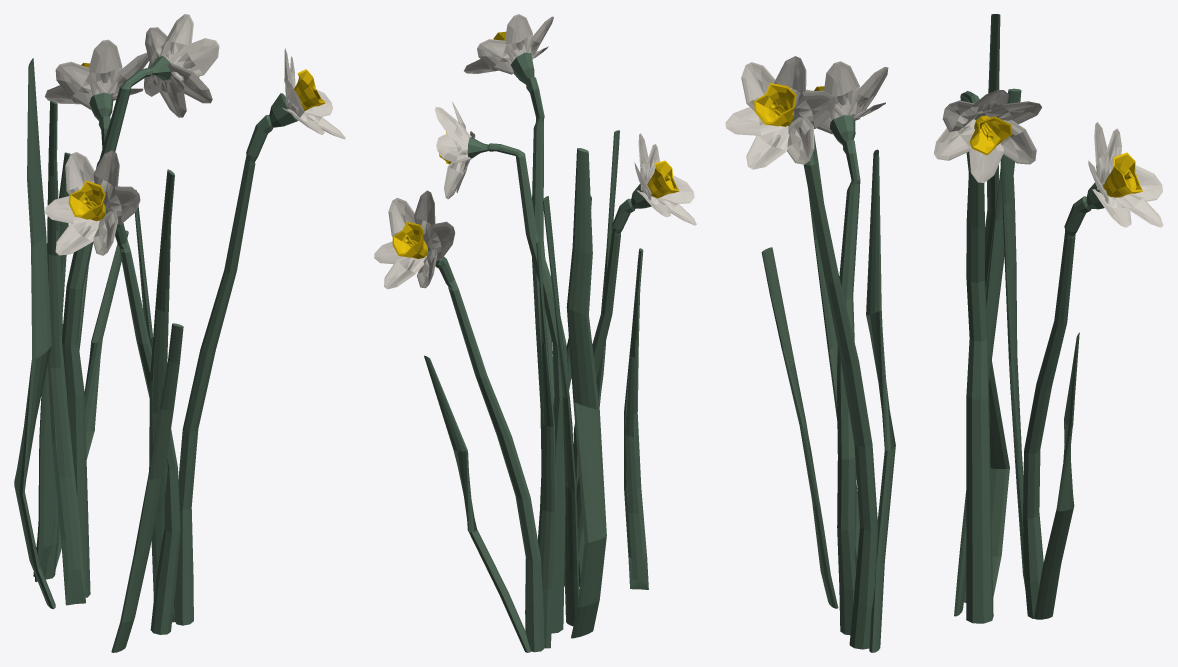
The model's file is Daffodil.fbx.
3 views of the same model, side by side, from view 1: azimuth 30°, elevation 25°; view 2: azimuth 150°, elevation 25°; view 3: azimuth 270°, elevation 25° (orthographic). The views are drawn at different scales.
Visible parts, largest first — view 1: Daffodil_Leaf, Daffodil_Stem, Daffodil_Flower, Daffodil_Corona; view 2: Daffodil_Leaf, Daffodil_Stem, Daffodil_Flower, Daffodil_Corona; view 3: Daffodil_Stem, Daffodil_Leaf, Daffodil_Flower, Daffodil_Corona.
Part boxes in pixels (left/top/right/bottom): Daffodil_Leaf: left=14, top=58, right=183, bottom=652; Daffodil_Stem: left=33, top=56, right=298, bottom=634; Daffodil_Flower: left=45, top=14, right=345, bottom=255; Daffodil_Corona: left=68, top=62, right=325, bottom=221; Daffodil_Leaf: left=424, top=130, right=648, bottom=652; Daffodil_Stem: left=428, top=52, right=651, bottom=652; Daffodil_Flower: left=374, top=14, right=696, bottom=289; Daffodil_Corona: left=392, top=31, right=679, bottom=258; Daffodil_Stem: left=788, top=91, right=1104, bottom=649; Daffodil_Leaf: left=761, top=14, right=1079, bottom=652; Daffodil_Flower: left=725, top=56, right=1163, bottom=227; Daffodil_Corona: left=754, top=83, right=1142, bottom=197.
Size of the model in its own units: 52.69 by 110 by 69.73.
